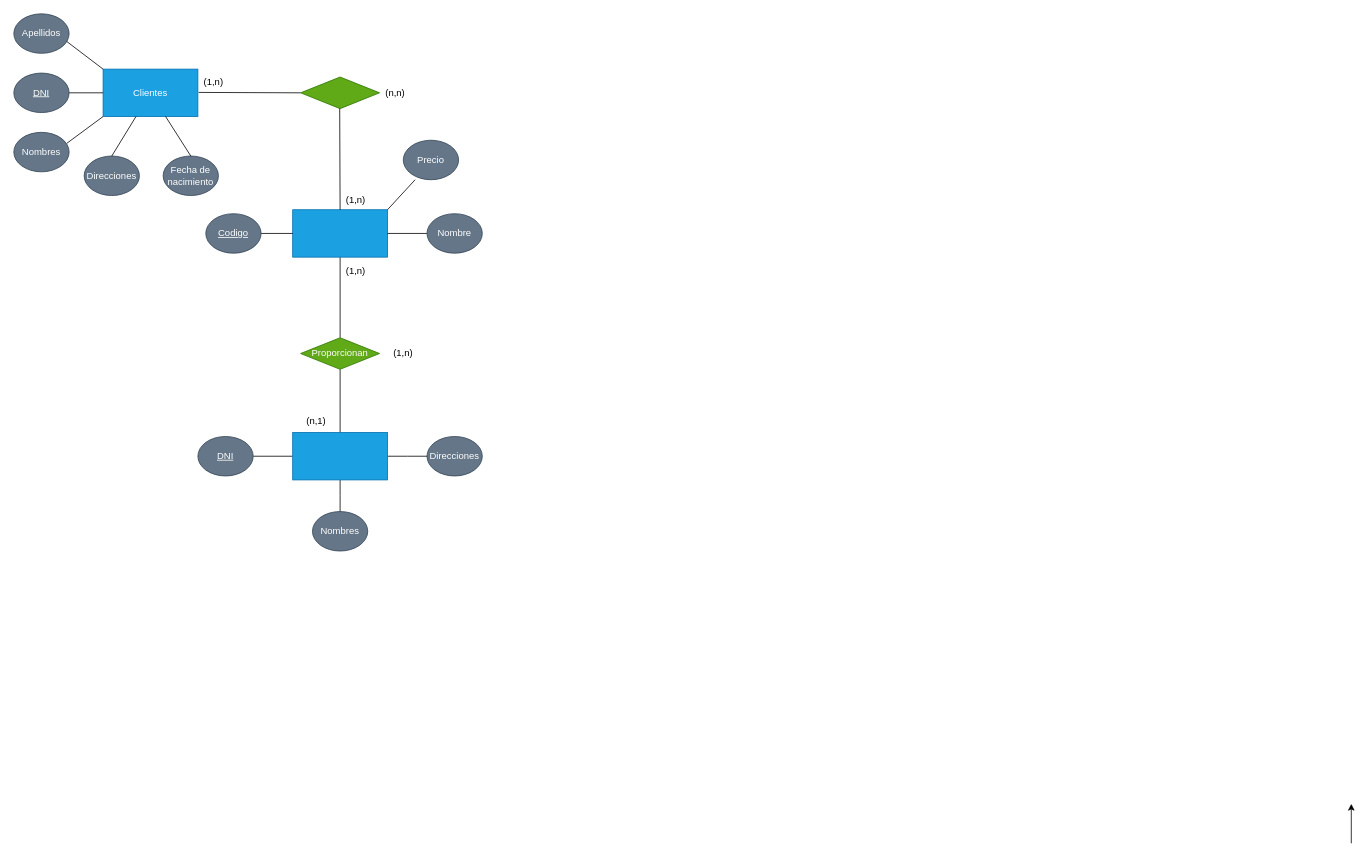
The diagram is 1371 pixels wide and 863 high, and some of its shapes have lost their labels. Each missing label, with the centre of its shape:
Compra: point (340, 92)
Producto: point (339, 233)
Proveedores: point (339, 456)
